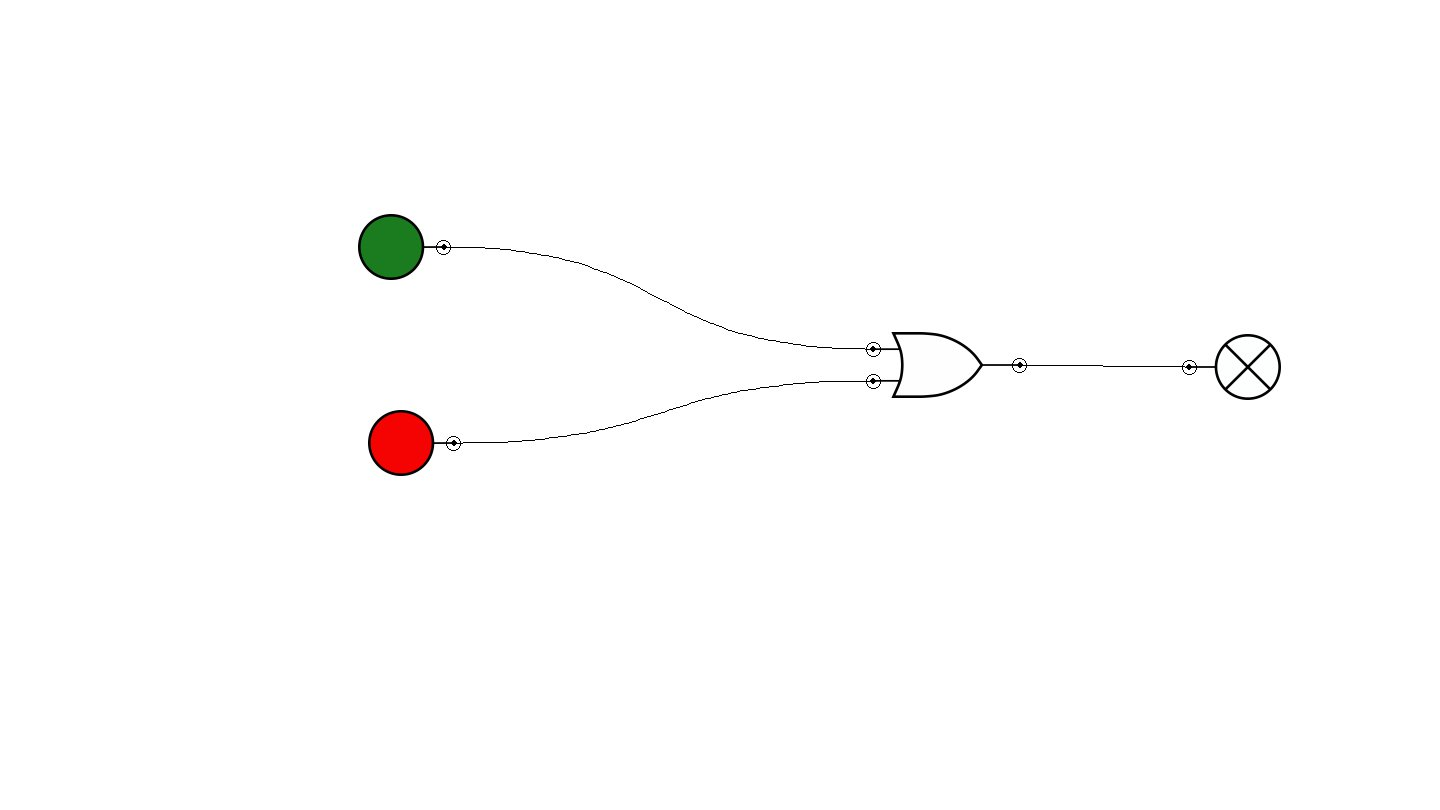bulb: (1182, 334, 1281, 400)
or: (866, 332, 1027, 398)
switch_False: (368, 410, 461, 476)
switch_True: (358, 214, 451, 280)
